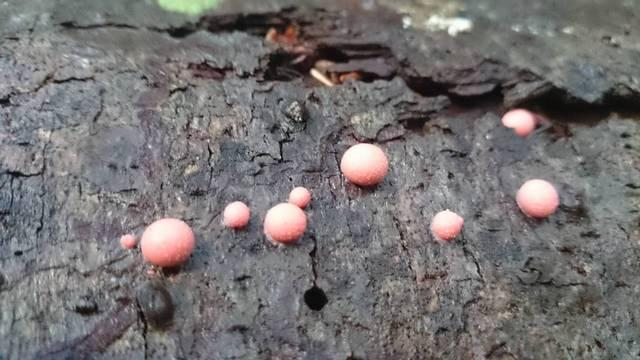poisonous_mushroom: (139, 216, 195, 268), (339, 141, 389, 186), (262, 201, 307, 244), (515, 177, 559, 218), (429, 208, 464, 241), (501, 107, 536, 136), (221, 200, 250, 229), (287, 185, 311, 208)
